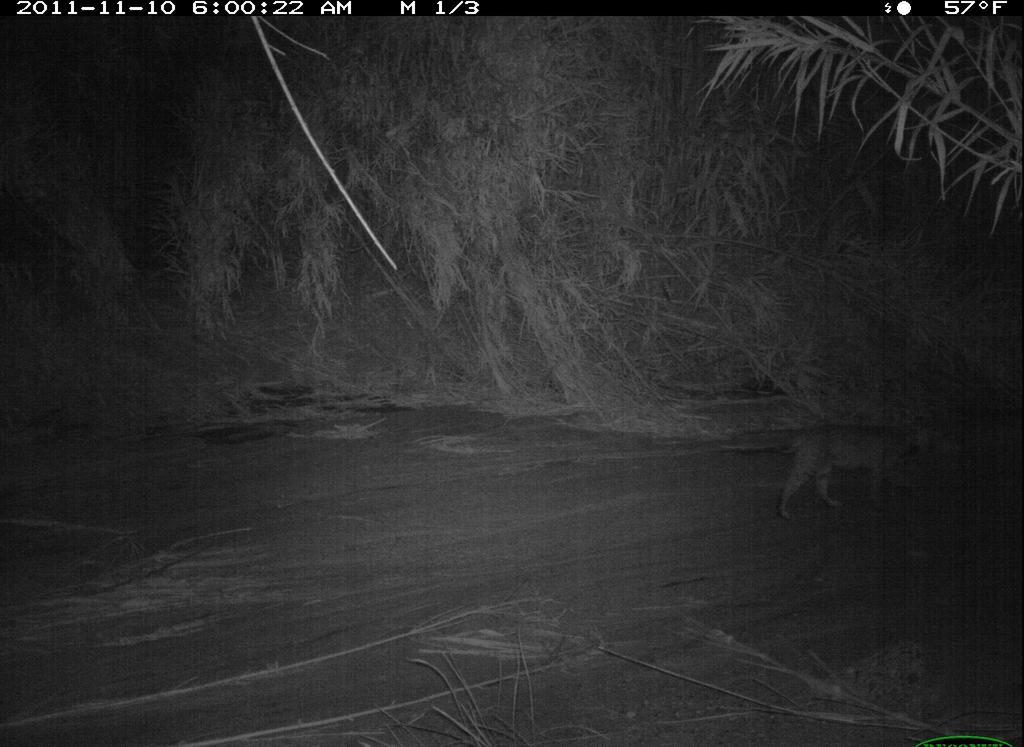bobcat: (765, 411, 959, 527)
